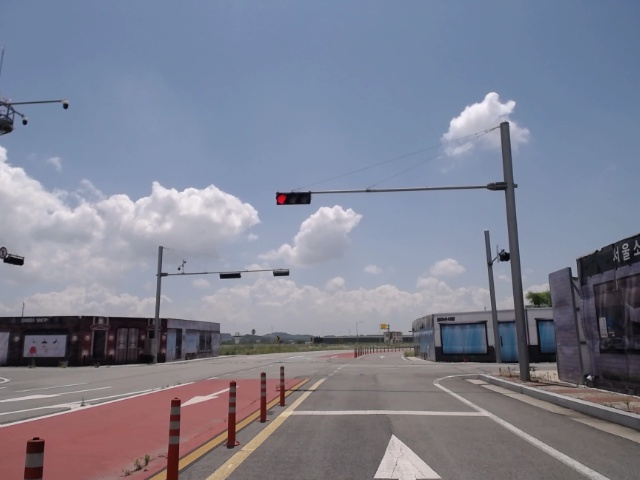red_3: (276, 192, 312, 205)
